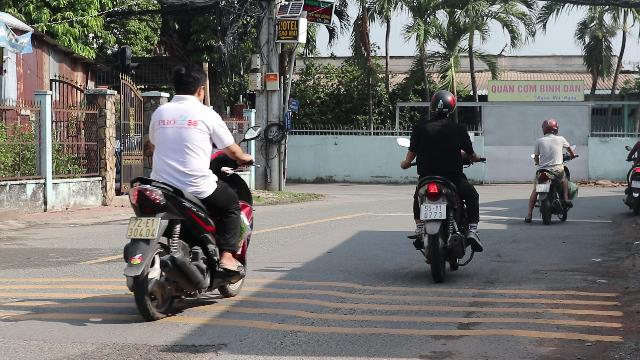helmet: (428, 89, 457, 119), (540, 117, 560, 134)
licenseplate: (125, 218, 158, 238), (419, 204, 446, 220), (536, 184, 548, 192)
motorcyclist: (118, 66, 258, 318), (402, 89, 484, 275), (524, 117, 578, 222)
nohelmet: (167, 65, 207, 102)
